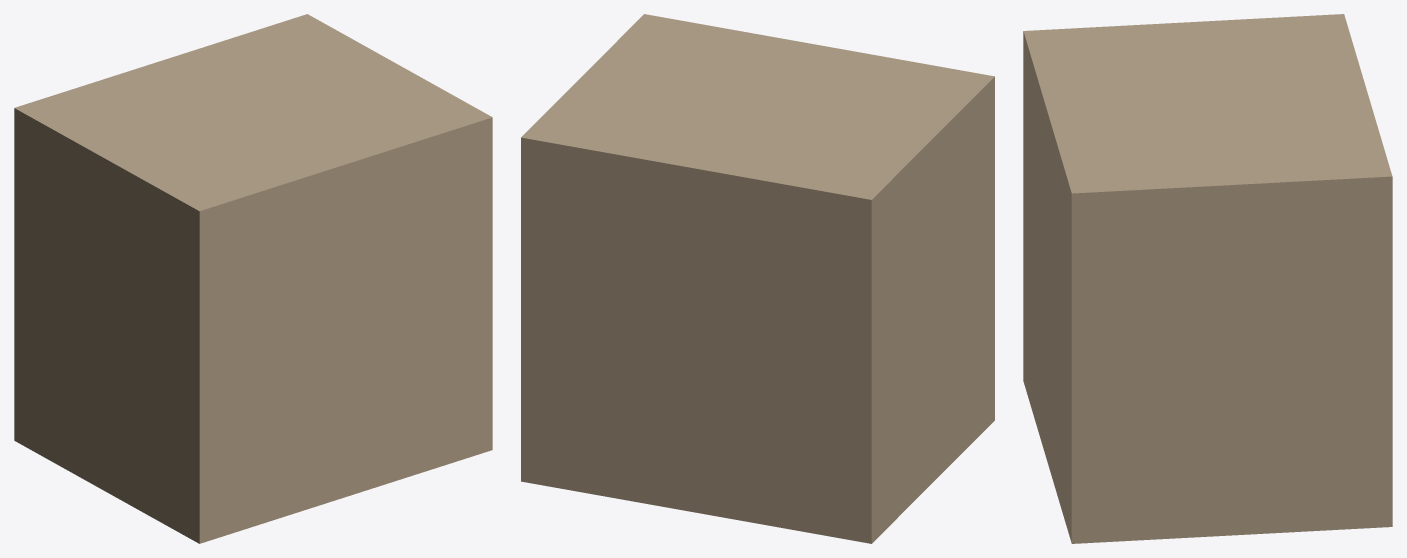
File: bld_109053870.dae
3 renders of one model, left to right at view 1: azimuth 30°, elevation 25°; view 2: azimuth 150°, elevation 25°; view 3: azimuth 270°, elevation 25°, orthographic. The views are drawn at different scales.
Parts seen in each view (by area): view 1: bld_109053870; view 2: bld_109053870; view 3: bld_109053870.
Part boxes in pixels (x1=…): bld_109053870: x1=14, y1=14, x2=492, y2=543; bld_109053870: x1=521, y1=14, x2=994, y2=543; bld_109053870: x1=1023, y1=14, x2=1392, y2=543.
Size of the model in its own units: 8.79 by 7.64 by 8.
